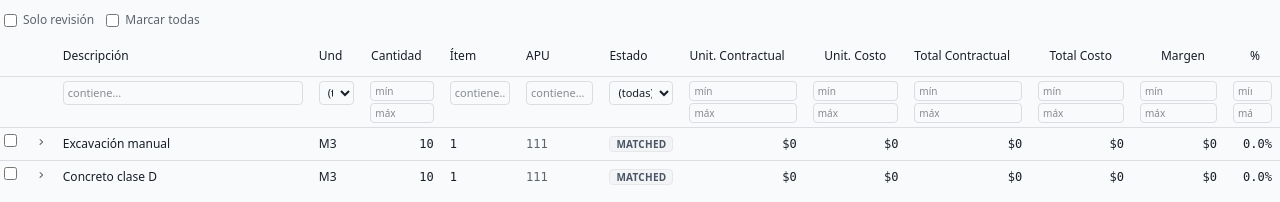
Scenario: filtra por Descripción (contiene) ocultando las filas que no coinciden
Expected: the text "Excavación manual" is shown, [63,134,170,152]
Step 1. Type "concreto" into the field named "Filtrar Descripción" → [183, 92], box [63,80,303,104]
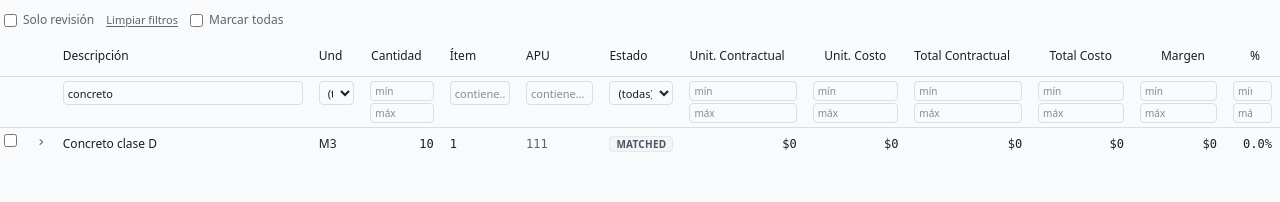
Expected: the text "Concreto clase D" is shown, [63,135,157,152]
Now the text "Excavación manual" is gone
